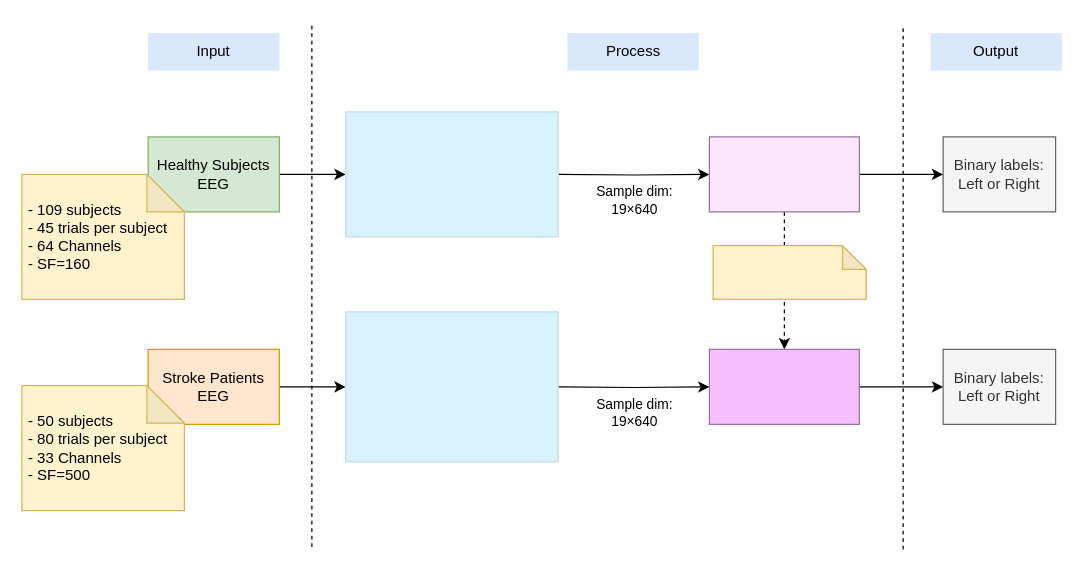
Some shapes in this 1084 by 573 pixel diagram are drawn without their labels. The shapes that lost their labels are listed below. From the top down, each one's box as (x1, y1, x2, y2) in pixels, then its label:
(344, 111, 558, 237): Preprocessing: Channel Selection Filtering
(708, 136, 859, 212): EEGNet
(712, 244, 866, 299): Fine Tuning
(344, 311, 558, 462): Preprocessing: Channel Selection Resampling Filtering Artifact Removal
(708, 348, 859, 424): Transfered Model
